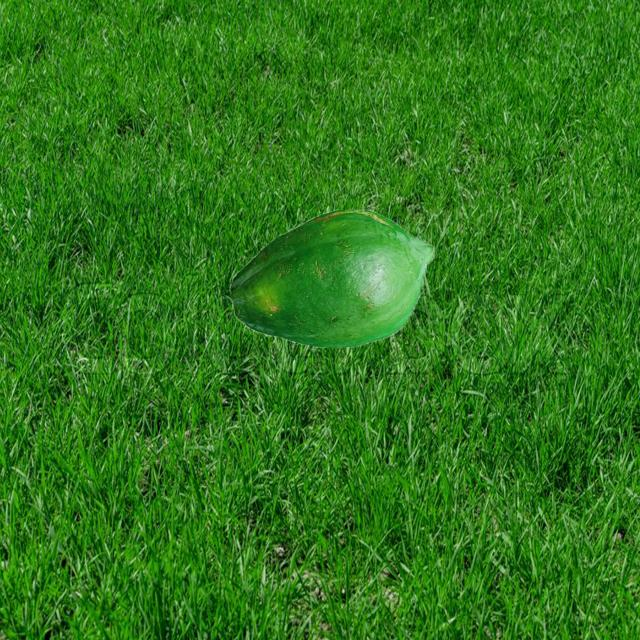Pepaya unrippen: (214, 206, 441, 343)
